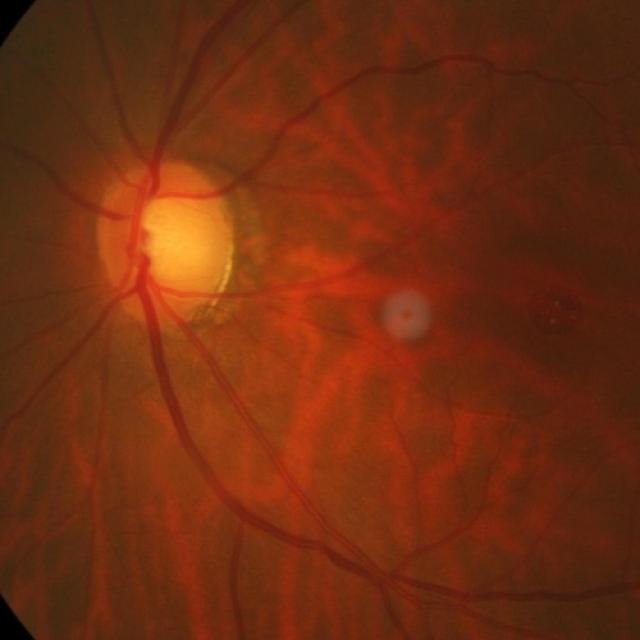OC: (143, 200, 223, 284)
OD: (98, 158, 236, 325)
